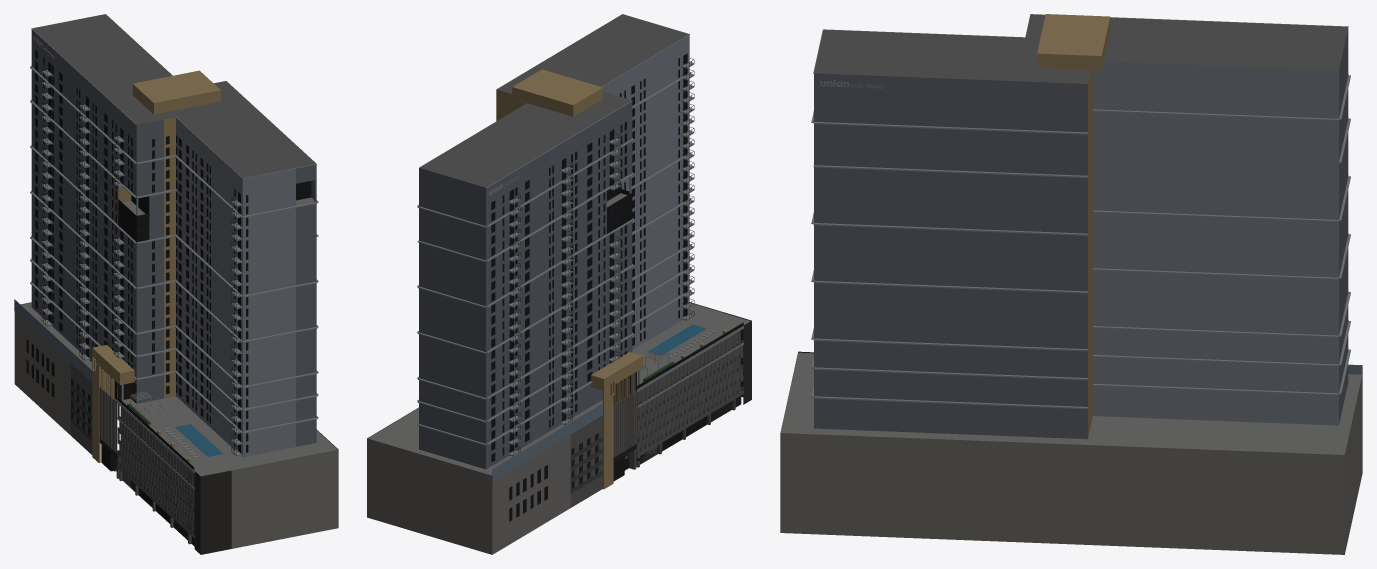
The model's file is union-on-san-antonio-look.glb.
3 views of the same model, side by side, from view 1: azimuth 30°, elevation 25°; view 2: azimuth 150°, elevation 25°; view 3: azimuth 270°, elevation 25° (orthographic). The views are drawn at different scales.
Parts seen in each view (by area): view 1: n_wall_charcoal_ribbed, n_wall_pale_ribbed, n_glass_window, n_roof_tower, n_wall_precast_buff, n_wall_white_trim, n_wall_yellow_panel, n_wall_grey_perforated, n_roof_deck, n_metal_dark_frame, n_wall_brick_brown, n_glass_storefront (+6 smaller); view 2: n_wall_charcoal_ribbed, n_wall_precast_buff, n_wall_pale_ribbed, n_glass_window, n_roof_tower, n_wall_white_trim, n_wall_grey_perforated, n_wall_yellow_panel, n_roof_deck, n_metal_dark_frame, n_wall_concrete, n_wall_bluegrey_spandrel (+6 smaller); view 3: n_wall_charcoal_ribbed, n_wall_pale_ribbed, n_wall_precast_buff, n_roof_tower, n_roof_deck, n_wall_white_trim, n_wall_yellow_panel.
Part boxes in pixels (x1,y1,x2,y2): n_wall_charcoal_ribbed: (31, 30, 316, 446); n_wall_pale_ribbed: (118, 118, 295, 457); n_glass_window: (26, 50, 248, 452); n_roof_tower: (32, 14, 316, 177); n_wall_precast_buff: (14, 302, 338, 548); n_wall_white_trim: (30, 28, 318, 489); n_wall_yellow_panel: (92, 70, 220, 462); n_wall_grey_perforated: (71, 363, 194, 538); n_roof_deck: (21, 197, 337, 476); n_metal_dark_frame: (41, 66, 241, 470); n_wall_brick_brown: (194, 470, 231, 554); n_glass_storefront: (101, 181, 311, 522); n_wall_charcoal_ribbed: (419, 102, 632, 469); n_wall_precast_buff: (367, 302, 723, 554); n_wall_pale_ribbed: (603, 35, 689, 349); n_glass_window: (491, 53, 687, 521); n_roof_tower: (419, 14, 688, 187); n_wall_white_trim: (417, 14, 743, 456); n_wall_grey_perforated: (570, 330, 743, 507); n_wall_yellow_panel: (496, 69, 727, 489); n_roof_deck: (368, 193, 750, 475); n_metal_dark_frame: (508, 58, 694, 481); n_wall_concrete: (629, 332, 740, 469); n_wall_bluegrey_spandrel: (570, 340, 743, 493); n_wall_charcoal_ribbed: (814, 28, 1348, 439); n_wall_pale_ribbed: (1093, 61, 1338, 425); n_wall_precast_buff: (780, 370, 1362, 554); n_roof_tower: (814, 14, 1348, 83); n_roof_deck: (780, 352, 1361, 454); n_wall_white_trim: (811, 14, 1350, 409); n_wall_yellow_panel: (1037, 14, 1110, 437).
Bounding box in the file's own units: 45.24 × 95.7 × 108.
